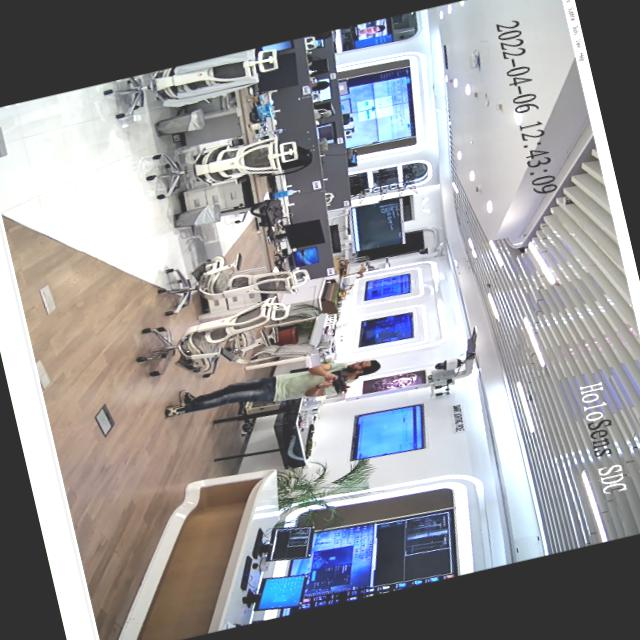long weapon: (310, 362, 356, 404)
